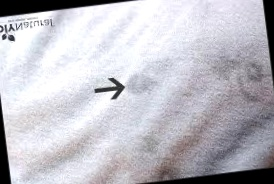oil: (121, 53, 178, 100)
